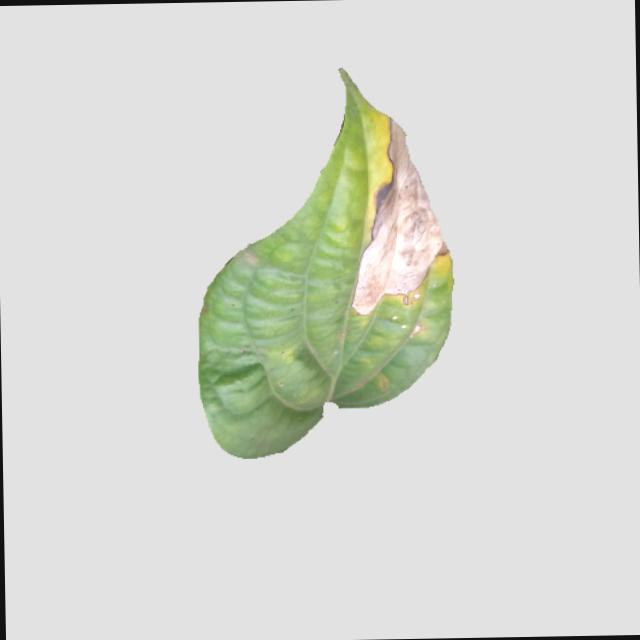leaf-blight: (178, 64, 456, 463)
